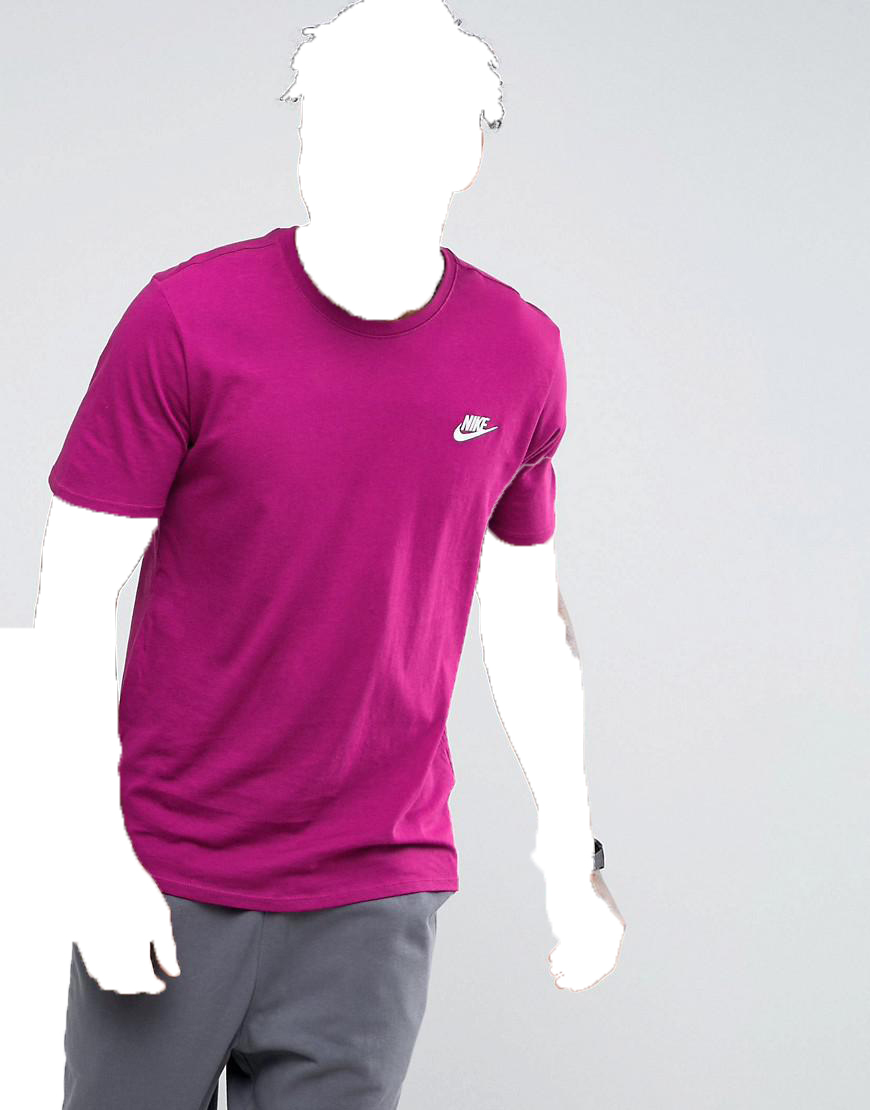teeshirt: (34, 230, 581, 908)
